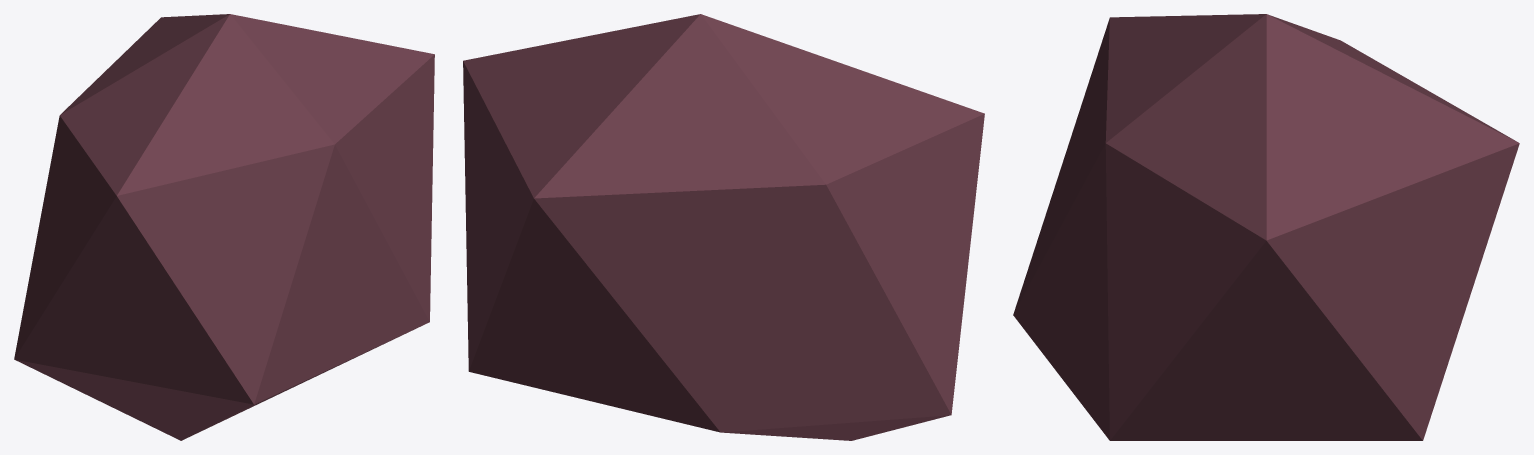
Rendered from meteor2.fbx.
3 views of the same model, side by side, from view 1: azimuth 30°, elevation 25°; view 2: azimuth 150°, elevation 25°; view 3: azimuth 270°, elevation 25° (orthographic). The views are drawn at different scales.
Visible parts, largest first — view 1: Icosphere.001; view 2: Icosphere.001; view 3: Icosphere.001.
Boxes of the visible parts, box(x1,y1,x2,y2) form: Icosphere.001: box(14, 14, 434, 440); Icosphere.001: box(463, 14, 984, 440); Icosphere.001: box(1013, 14, 1519, 440).
Size of the model in its own units: 172 by 147 by 150.
